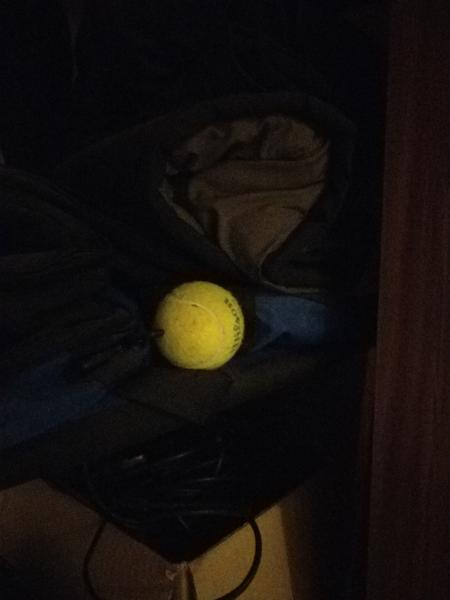Tennisball: (149, 278, 247, 377)
